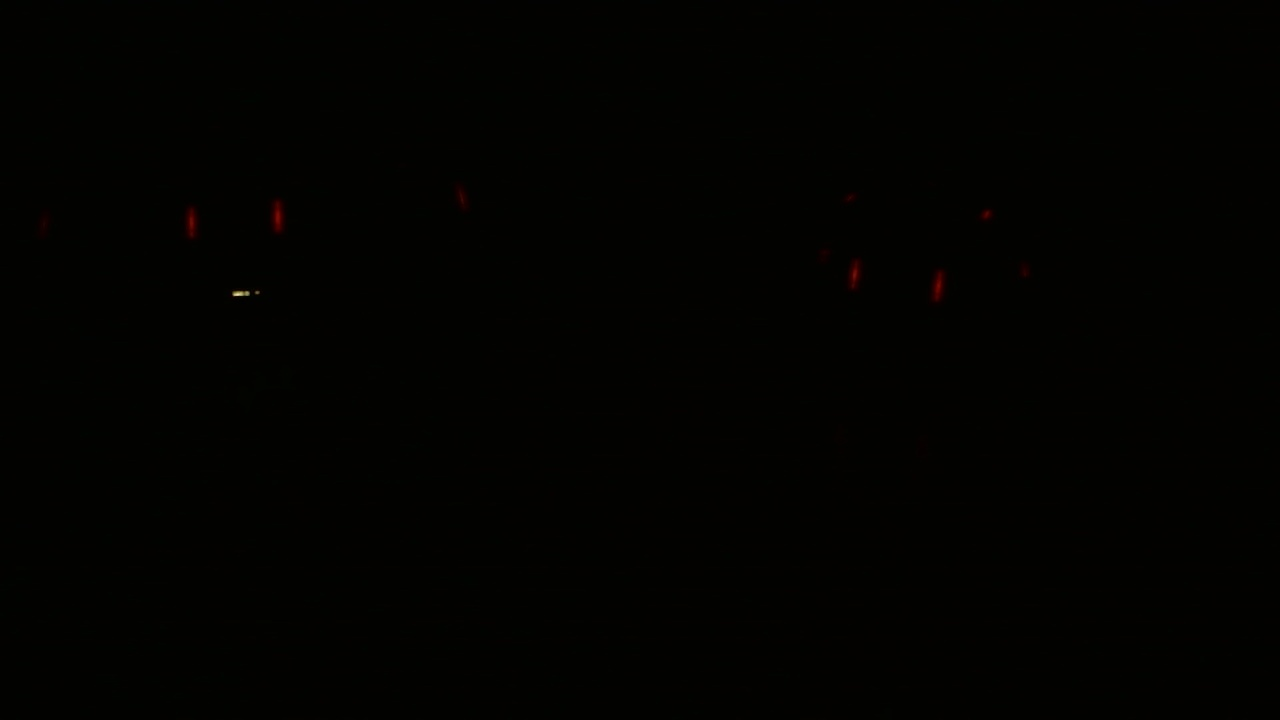pair1: (844, 250, 951, 306), (186, 192, 281, 241)
